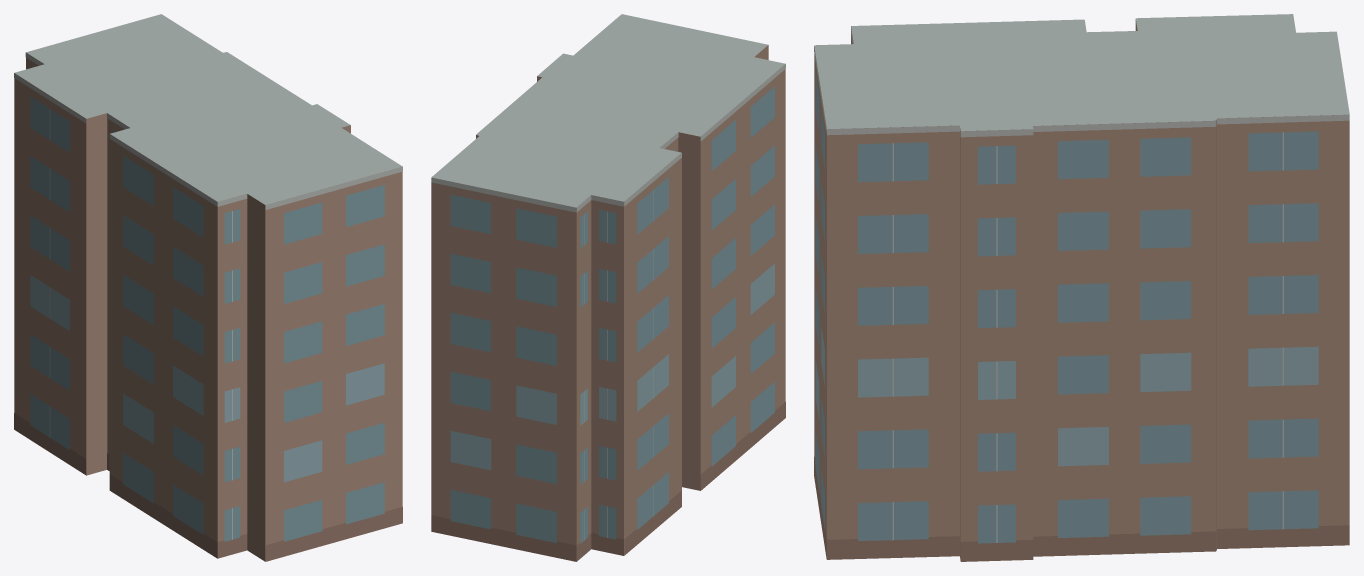
The model's file is survey-upis-32986181.glb.
3 renders of one model, left to right at view 1: azimuth 30°, elevation 25°; view 2: azimuth 150°, elevation 25°; view 3: azimuth 270°, elevation 25°, orthographic. The views are drawn at different scales.
Parts seen in each view (by area): view 1: survey-upis-32986181.tmp; view 2: survey-upis-32986181.tmp; view 3: survey-upis-32986181.tmp.
Boxes of the visible parts, x1,y1,x2,y2 form: survey-upis-32986181.tmp: (14,14,402,561); survey-upis-32986181.tmp: (431,14,785,561); survey-upis-32986181.tmp: (814,14,1349,561).
Bounding box in the file's own units: 10.14 × 17.35 × 19.57.
